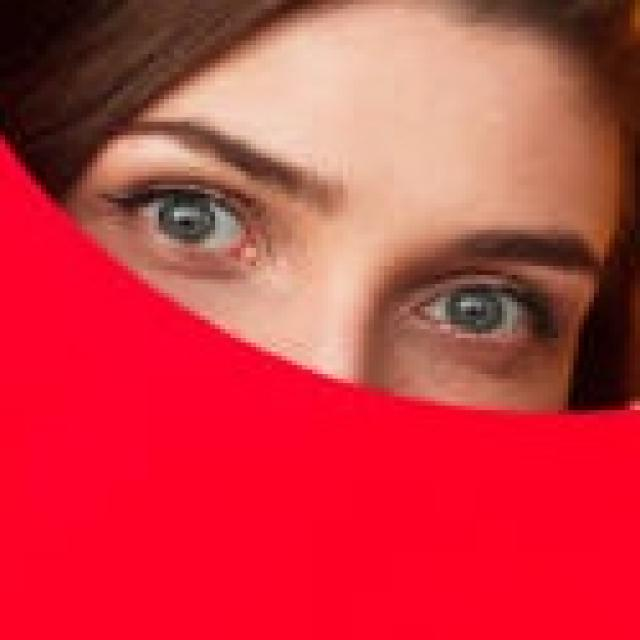Anxiety: (45, 0, 623, 412)
